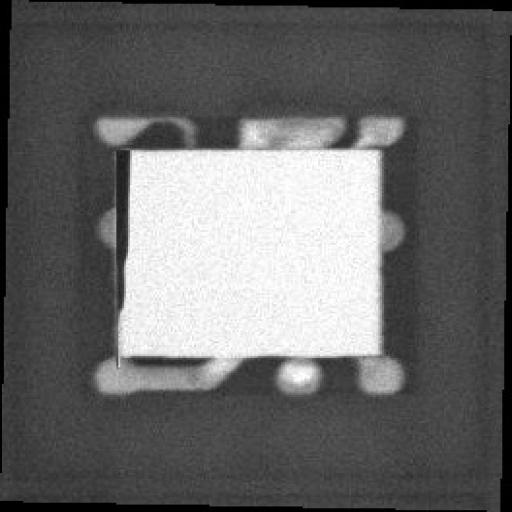DIE_BROKEN: (107, 141, 132, 312)
